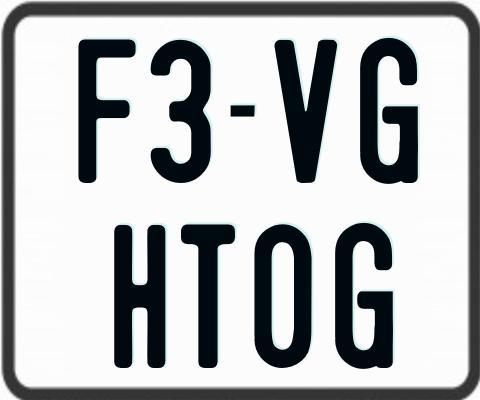0: (251, 222, 309, 369)
3: (149, 39, 215, 184)
F: (77, 38, 137, 184)
G: (357, 36, 419, 182), (334, 222, 393, 373)
H: (112, 223, 164, 368)
T: (180, 222, 235, 368)
V: (273, 40, 339, 185)
